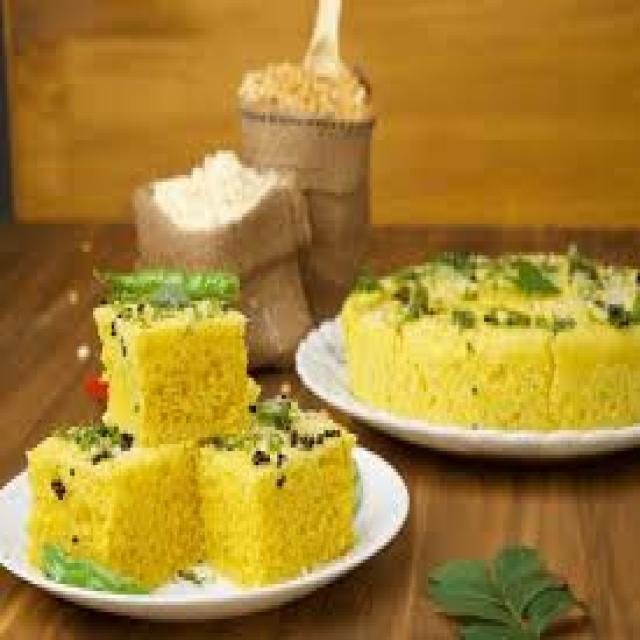DHOKLA: (346, 250, 638, 433), (24, 409, 209, 581), (200, 402, 360, 588), (94, 291, 255, 444)
